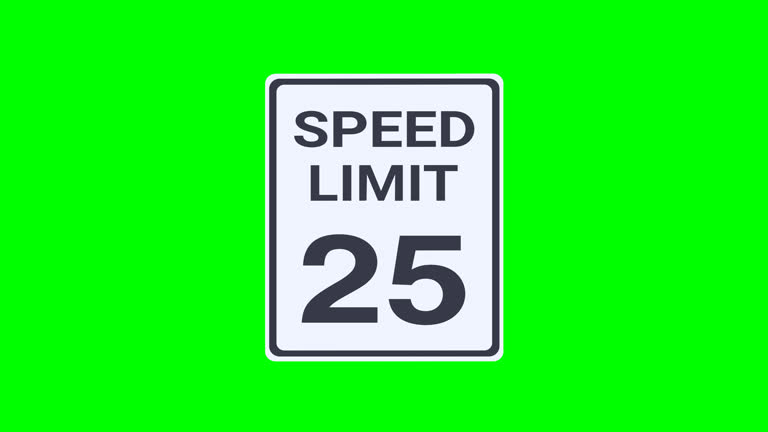SpeedLimitSign: (261, 71, 507, 364)
